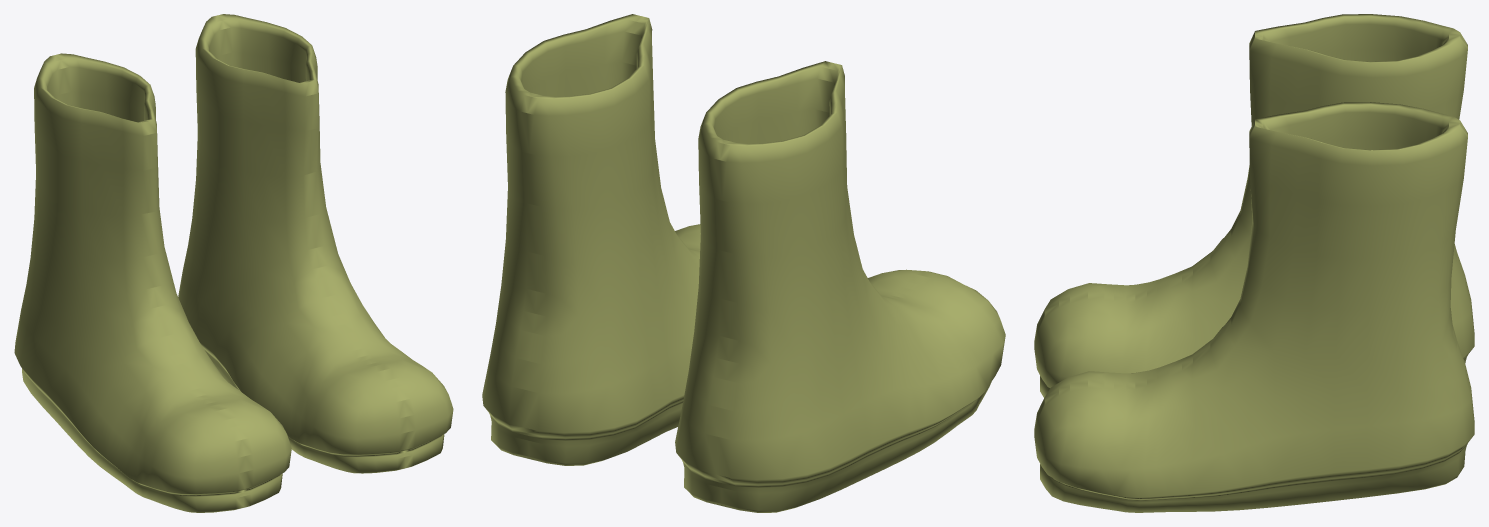
The model's file is seguranca-obj_botas.fbx.
3 views of the same model, side by side, from view 1: azimuth 30°, elevation 25°; view 2: azimuth 150°, elevation 25°; view 3: azimuth 270°, elevation 25° (orthographic). The views are drawn at different scales.
Visible parts, largest first — view 1: Botas; view 2: Botas; view 3: Botas.
Part boxes in pixels (x1,y1,x2,y2): Botas: (14,14,453,512); Botas: (482,14,1005,512); Botas: (1034,14,1474,512).
Bounding box in the file's own units: 7.68 × 7.66 × 8.54.
